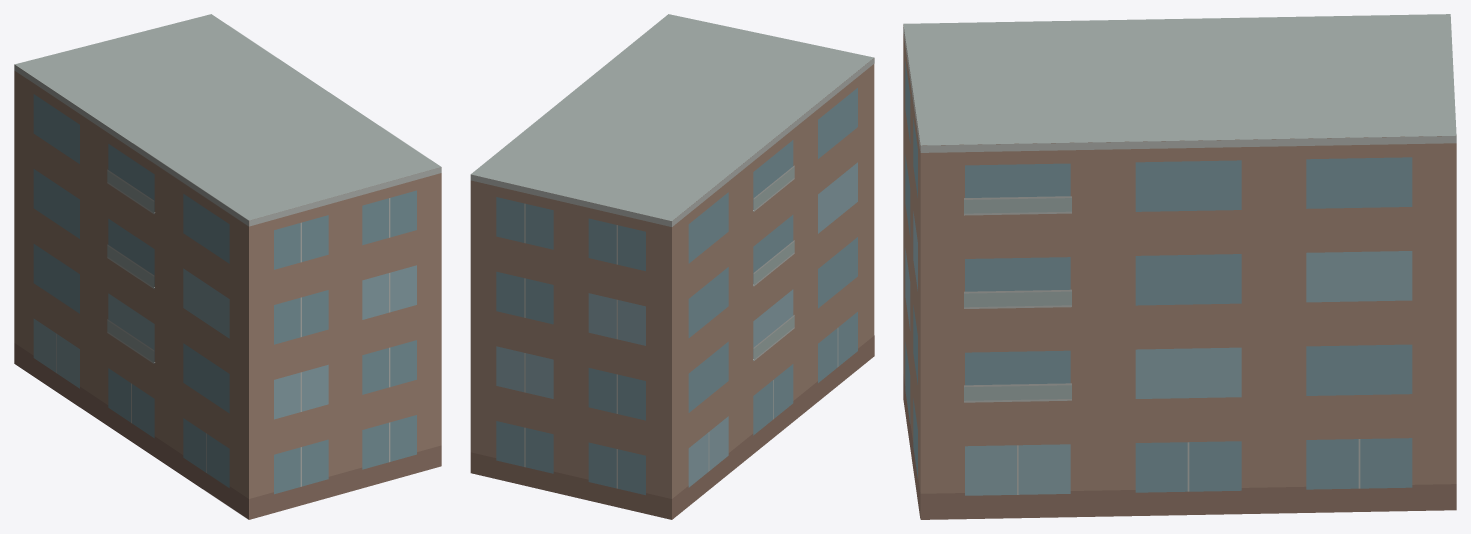
Rendered from survey-upis-32772034.glb.
The picture shows the model from 3 angles, left to right: view 1: azimuth 30°, elevation 25°; view 2: azimuth 150°, elevation 25°; view 3: azimuth 270°, elevation 25°; orthographic projection. The views are drawn at different scales.
Parts seen in each view (by area): view 1: survey-upis-32772034.tmp; view 2: survey-upis-32772034.tmp; view 3: survey-upis-32772034.tmp.
Part boxes in pixels (box(x1,y1,x2,y2)): survey-upis-32772034.tmp: box(14, 14, 441, 519); survey-upis-32772034.tmp: box(470, 14, 874, 519); survey-upis-32772034.tmp: box(903, 14, 1456, 519).
Size of the model in its own units: 9.2 by 12.2 by 16.35.
